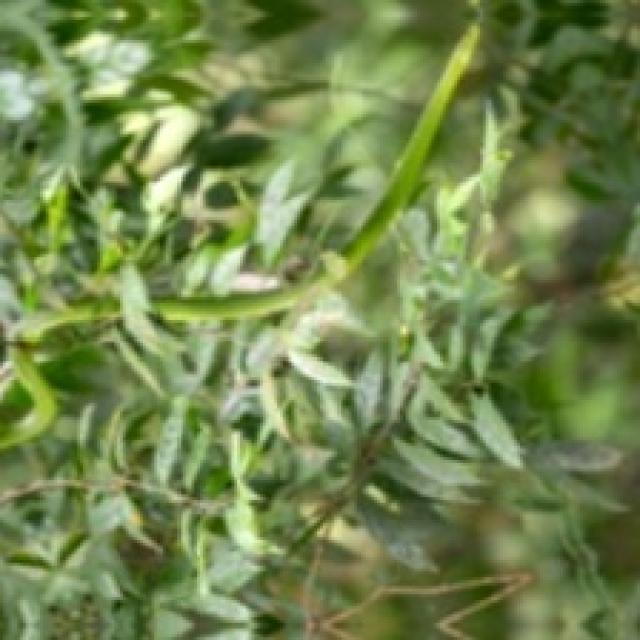red-tailed green ratsnake: (152, 25, 478, 322), (0, 300, 120, 448)
